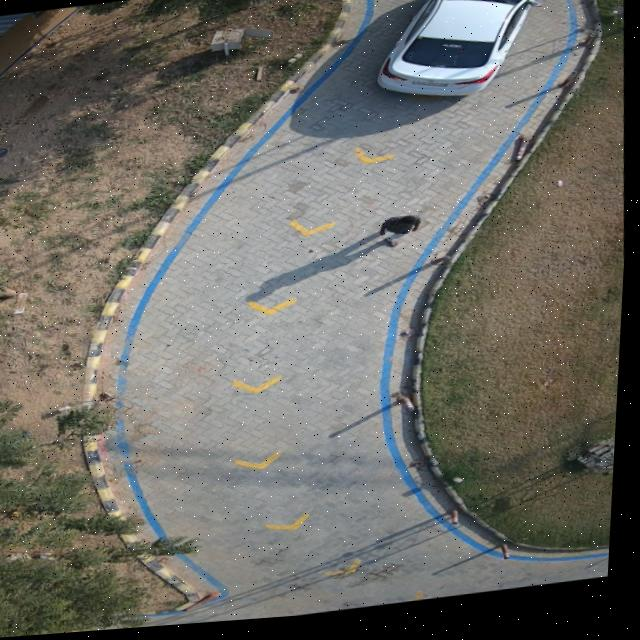car: (376, 0, 536, 106)
